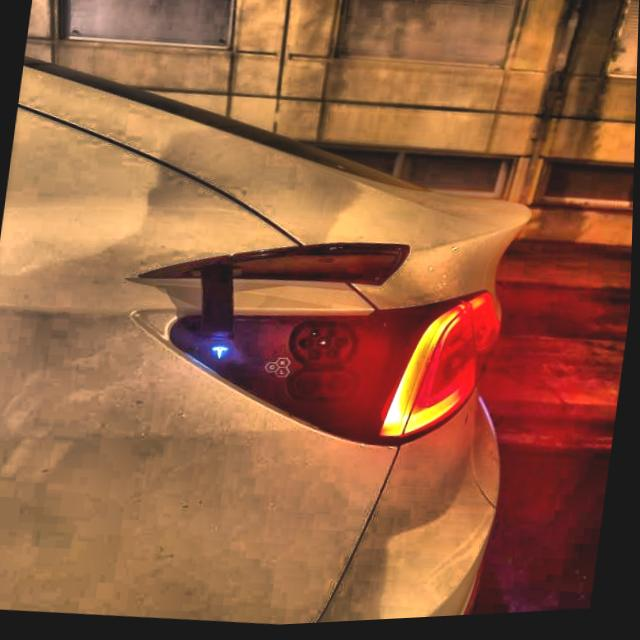inlet: (298, 330, 353, 368)
inlet-above-left: (312, 332, 322, 341)
inlet-above-right: (329, 332, 340, 341)
inlet-below-left: (309, 351, 325, 364)
inlet-below-right: (327, 351, 343, 364)
inlet-center: (318, 339, 334, 352)
inlet-center-left: (301, 339, 316, 352)
inlet-center-right: (336, 339, 351, 351)
